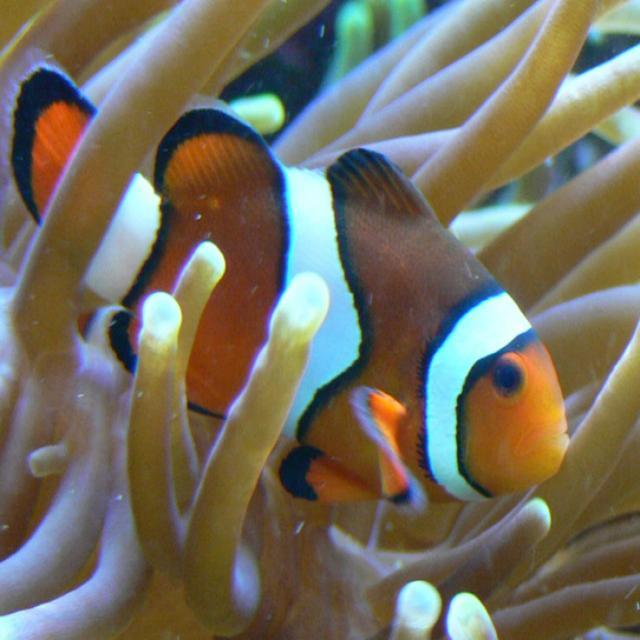ClownFish: (4, 78, 564, 521)
